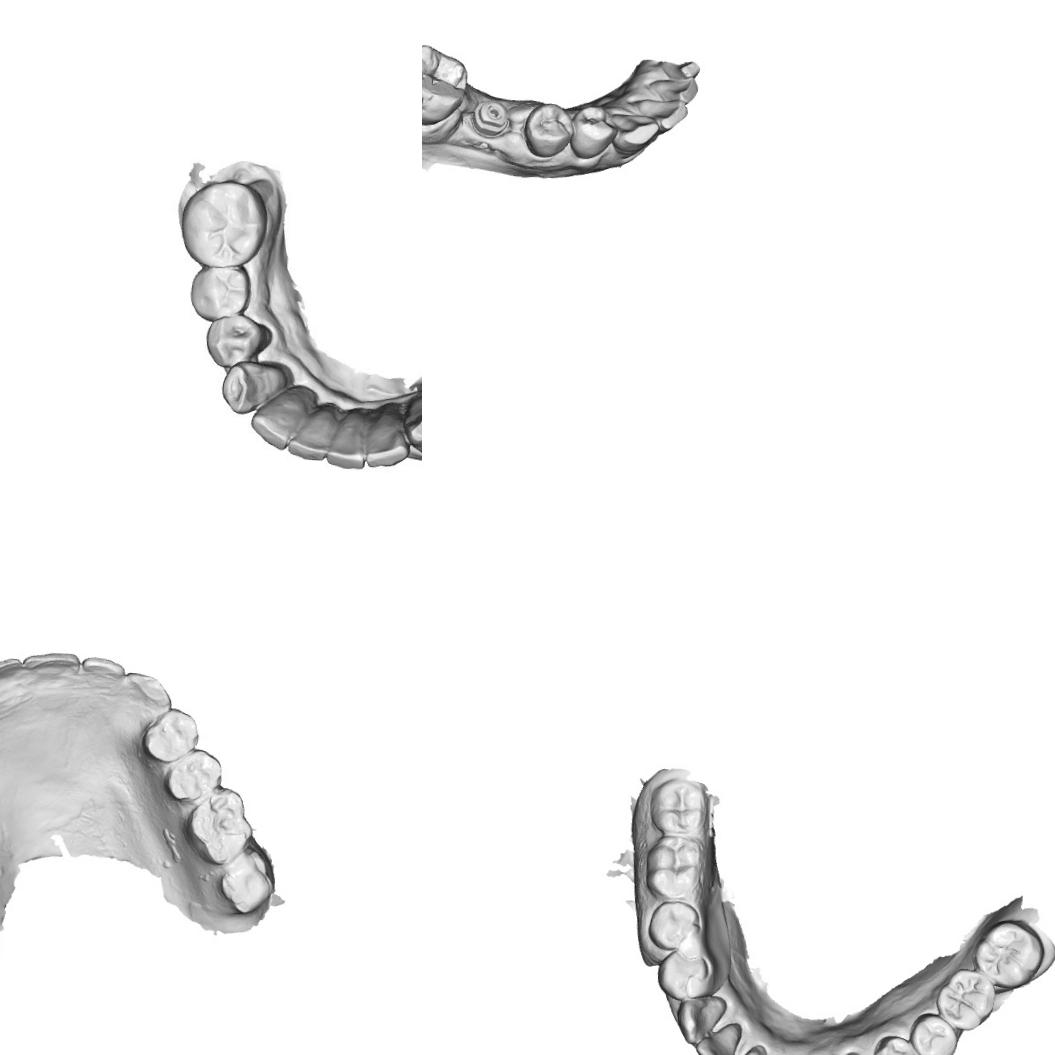canine: (220, 355, 294, 421), (674, 992, 732, 1048), (120, 670, 174, 728), (606, 111, 661, 159), (399, 388, 422, 456)
implant_minus: (469, 96, 509, 138)
incisor: (247, 388, 312, 454), (325, 393, 372, 468), (364, 397, 412, 467), (291, 398, 339, 458), (20, 646, 81, 686), (79, 654, 127, 700), (631, 96, 689, 132), (693, 1018, 746, 1055), (647, 75, 700, 104), (0, 653, 22, 700), (654, 59, 700, 80), (724, 1042, 767, 1055)
molar: (183, 182, 262, 267), (181, 784, 257, 868), (970, 916, 1044, 992), (643, 834, 708, 901), (208, 853, 274, 918), (934, 967, 999, 1032), (422, 41, 471, 127), (646, 776, 710, 837)
premolar: (137, 704, 202, 765), (162, 744, 225, 804), (188, 264, 249, 324), (205, 310, 271, 362), (520, 100, 576, 158), (658, 943, 711, 1001), (569, 101, 617, 161), (647, 893, 700, 946), (906, 1010, 957, 1055), (868, 1034, 922, 1055)
